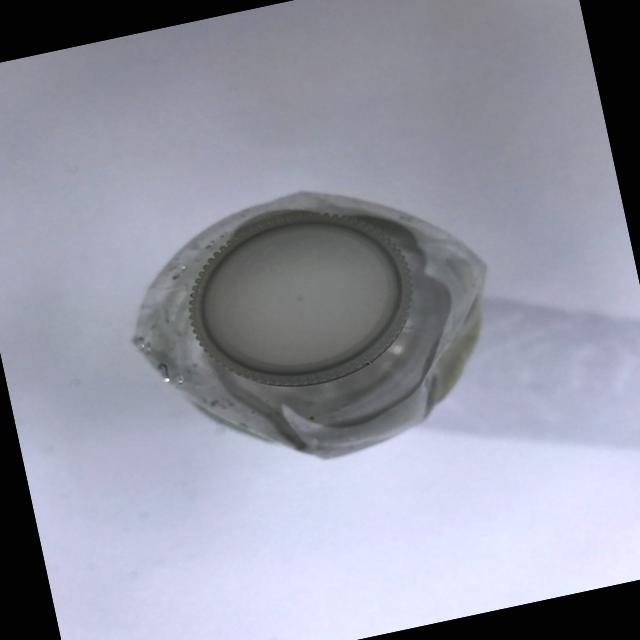Plastic: (39, 77, 588, 532)
